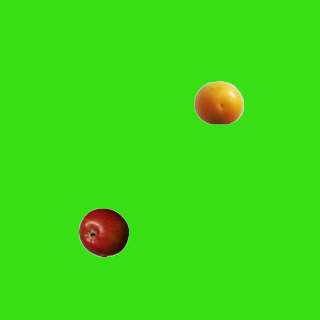Apple Braeburn: (78, 207, 128, 257)
Cherry Wax Yellow: (193, 77, 243, 127)
